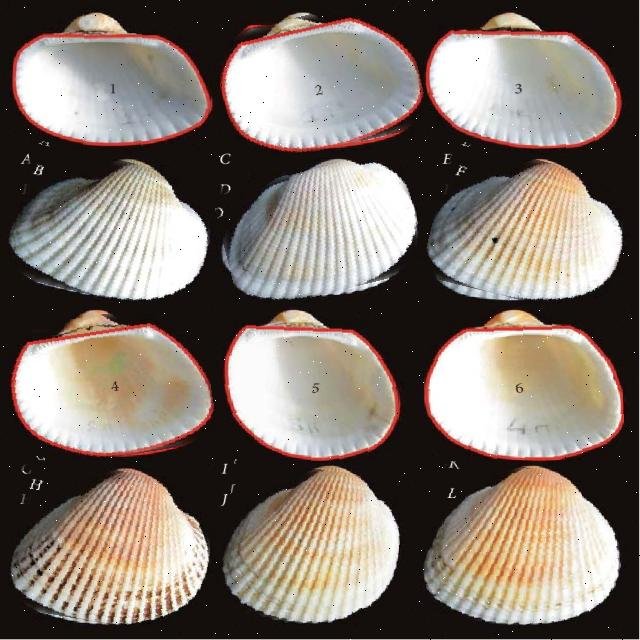Anadara_kagoshimensis: (10, 463, 217, 632), (421, 463, 624, 632), (8, 150, 218, 309), (4, 307, 214, 464), (426, 150, 631, 310), (216, 3, 425, 158), (220, 464, 403, 630), (217, 159, 422, 305), (424, 312, 623, 460), (222, 309, 402, 462), (13, 12, 212, 147), (428, 16, 620, 148)
